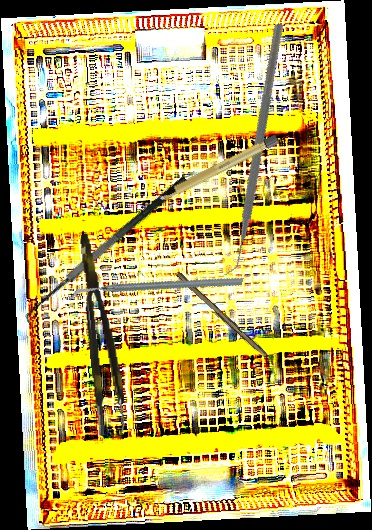Chopper: (137, 22, 362, 279), (69, 222, 245, 356)
Scalpel Handle: (155, 133, 281, 204), (173, 271, 270, 360)
Spatula Surgical: (16, 175, 201, 331)
Tissue Forceps: (77, 232, 128, 436)
